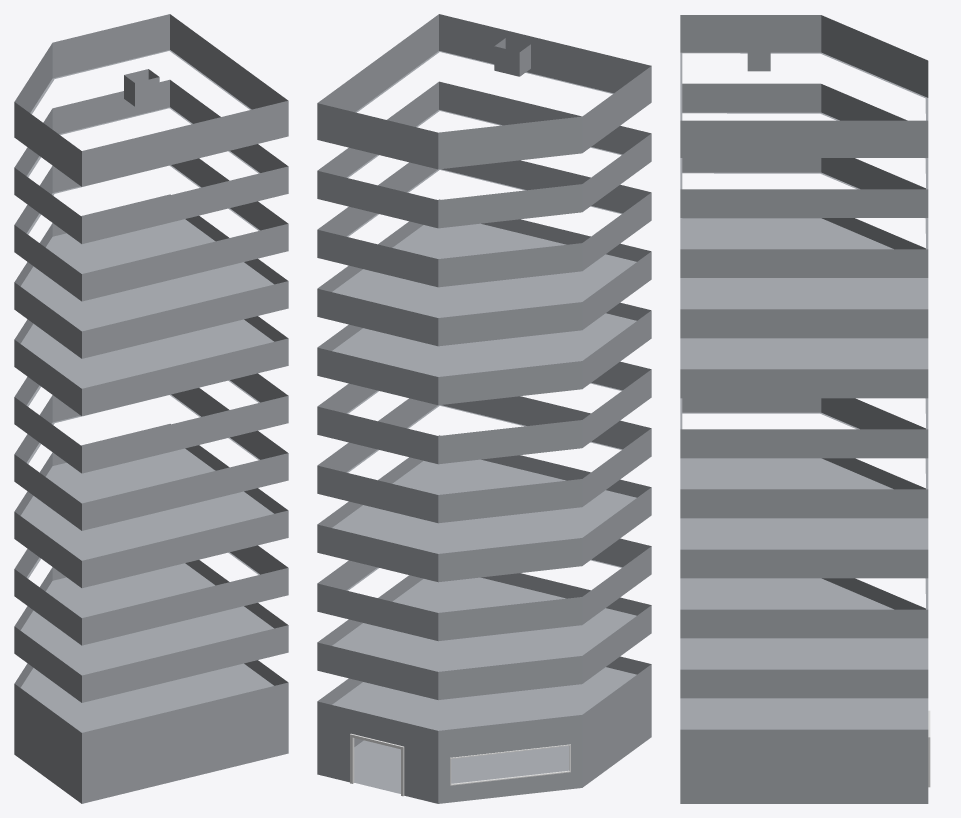
File: Bld_O_high_L5_B.fbx
3 views of the same model, side by side, from view 1: azimuth 30°, elevation 25°; view 2: azimuth 150°, elevation 25°; view 3: azimuth 270°, elevation 25° (orthographic). The views are drawn at different scales.
Visible parts, largest first — view 1: Bld_O_high_L5_B_LOD0; view 2: Bld_O_high_L5_B_LOD0; view 3: Bld_O_high_L5_B_LOD0.
Boxes of the visible parts, box(x1,y1,x2,y2) form: Bld_O_high_L5_B_LOD0: box(14, 14, 288, 803); Bld_O_high_L5_B_LOD0: box(317, 14, 651, 803); Bld_O_high_L5_B_LOD0: box(680, 15, 930, 803).
Size of what is drawn, in the model's own units: 2180 by 7130 by 2323.
Materials: 1 (1 with a texture image).
